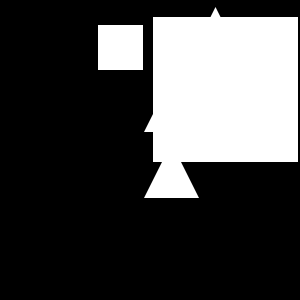circle: (153, 17, 298, 162), (98, 25, 143, 70)
triangle: (158, 7, 273, 122), (144, 43, 233, 132), (144, 143, 199, 198)
